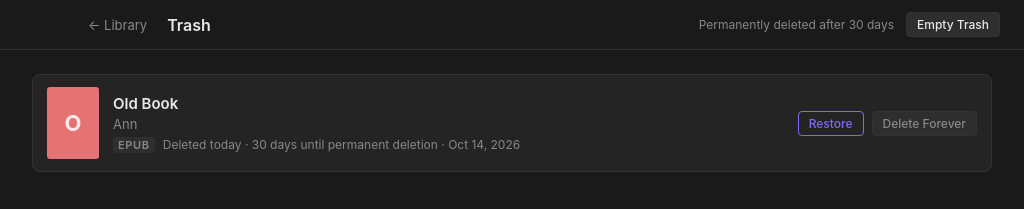
TrashView › restores an item and removes its row
expect the text "Old Book" is shown: met, box x1=113 y1=94 x2=178 y2=112
Click the button "Restore".
click(831, 123)  # box x1=798 y1=110 x2=864 y2=136
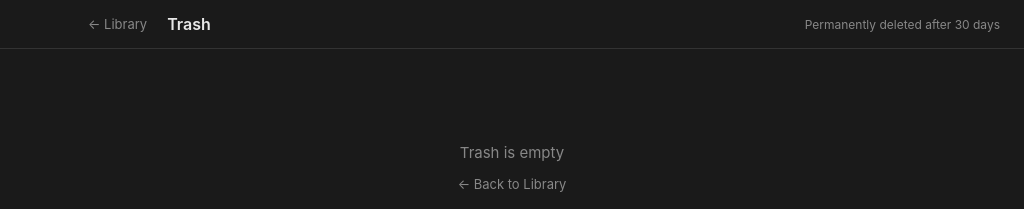
expect the text "Old Book" is gone: met
